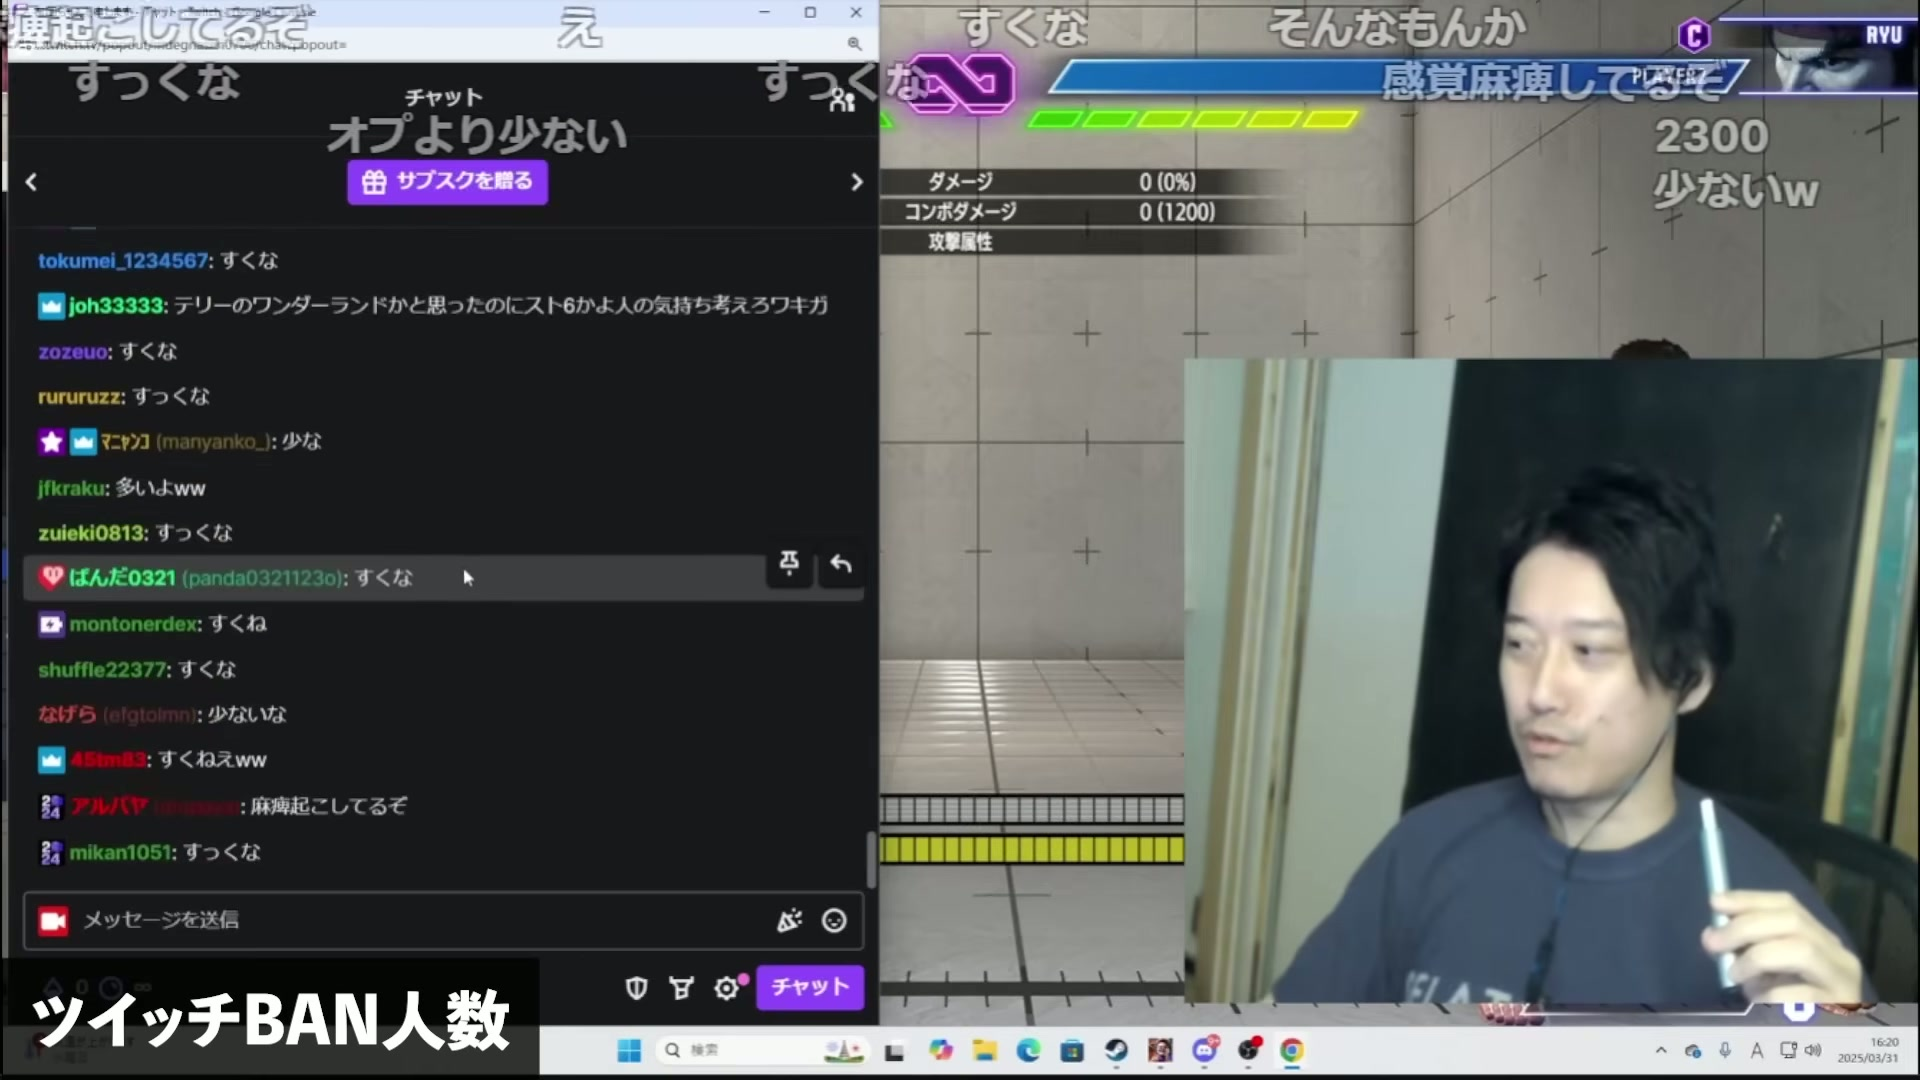stream_tag: (1189, 357, 1920, 1007)
